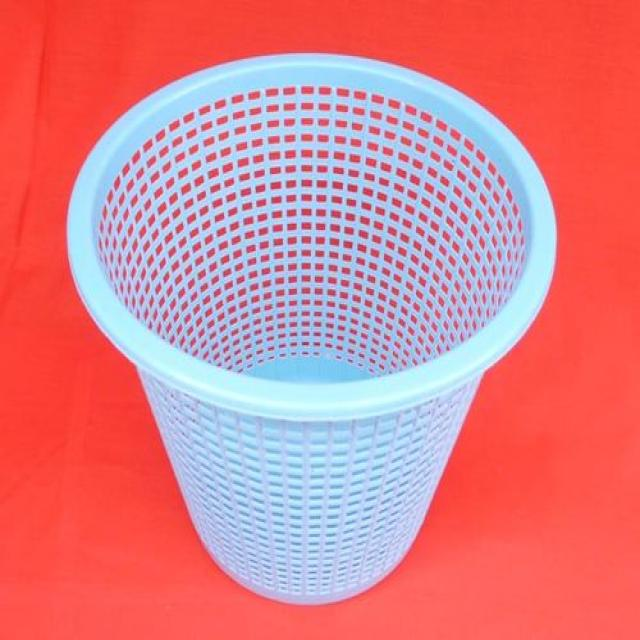dustbin: (64, 41, 568, 614)
